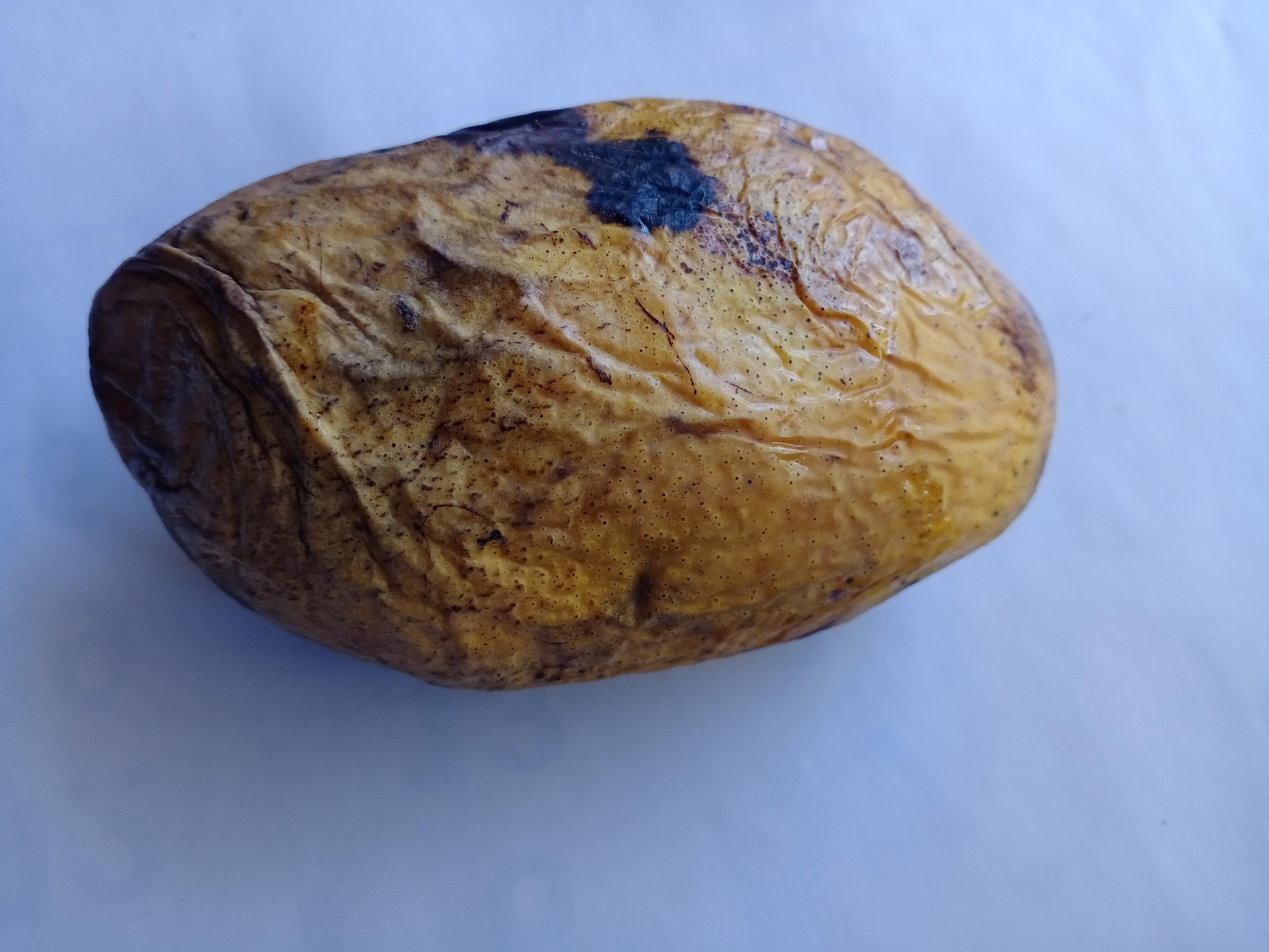Mango Overripe: (55, 63, 1055, 708)
